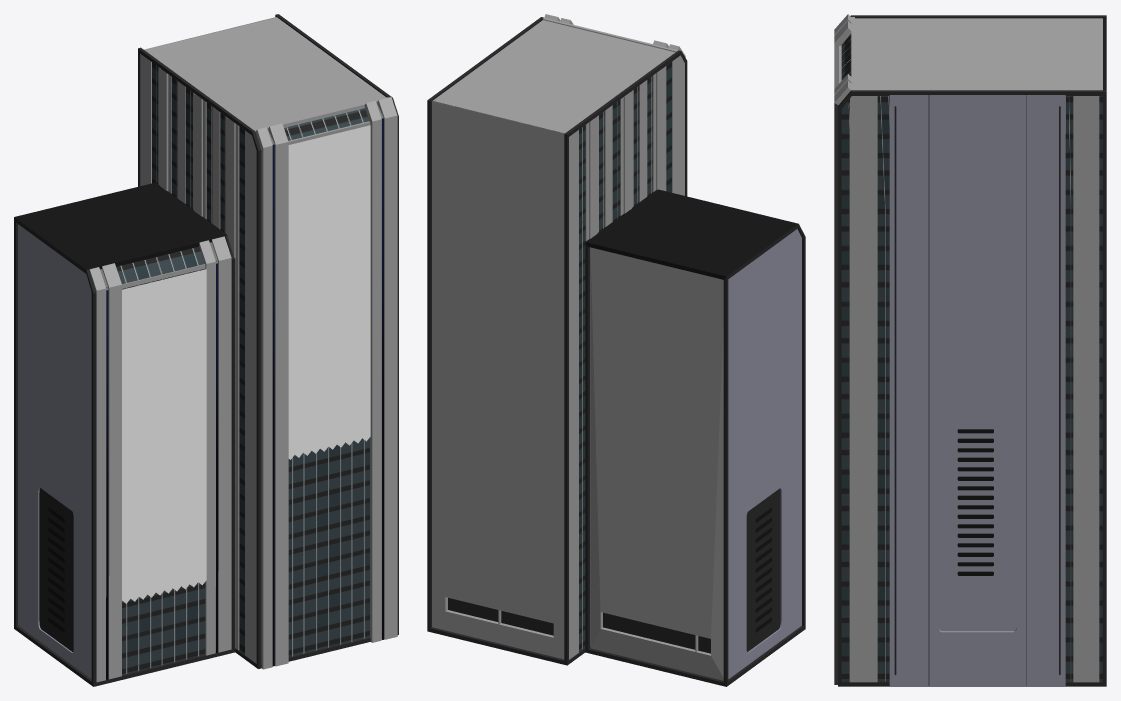
The model's file is Building_Spaxe_2st_L0.fbx.
The picture shows the model from 3 angles, left to right: view 1: azimuth 30°, elevation 25°; view 2: azimuth 150°, elevation 25°; view 3: azimuth 270°, elevation 25°; orthographic projection. The views are drawn at different scales.
Parts seen in each view (by area): view 1: Building_Spaxe_2st_L0; view 2: Building_Spaxe_2st_L0; view 3: Building_Spaxe_2st_L0.
Boxes of the visible parts, bbox=[...] form: Building_Spaxe_2st_L0: bbox=[14, 14, 398, 686]; Building_Spaxe_2st_L0: bbox=[427, 14, 805, 686]; Building_Spaxe_2st_L0: bbox=[834, 14, 1106, 686].
Bounding box in the file's own units: 47.3 × 35.3 × 85.5.
